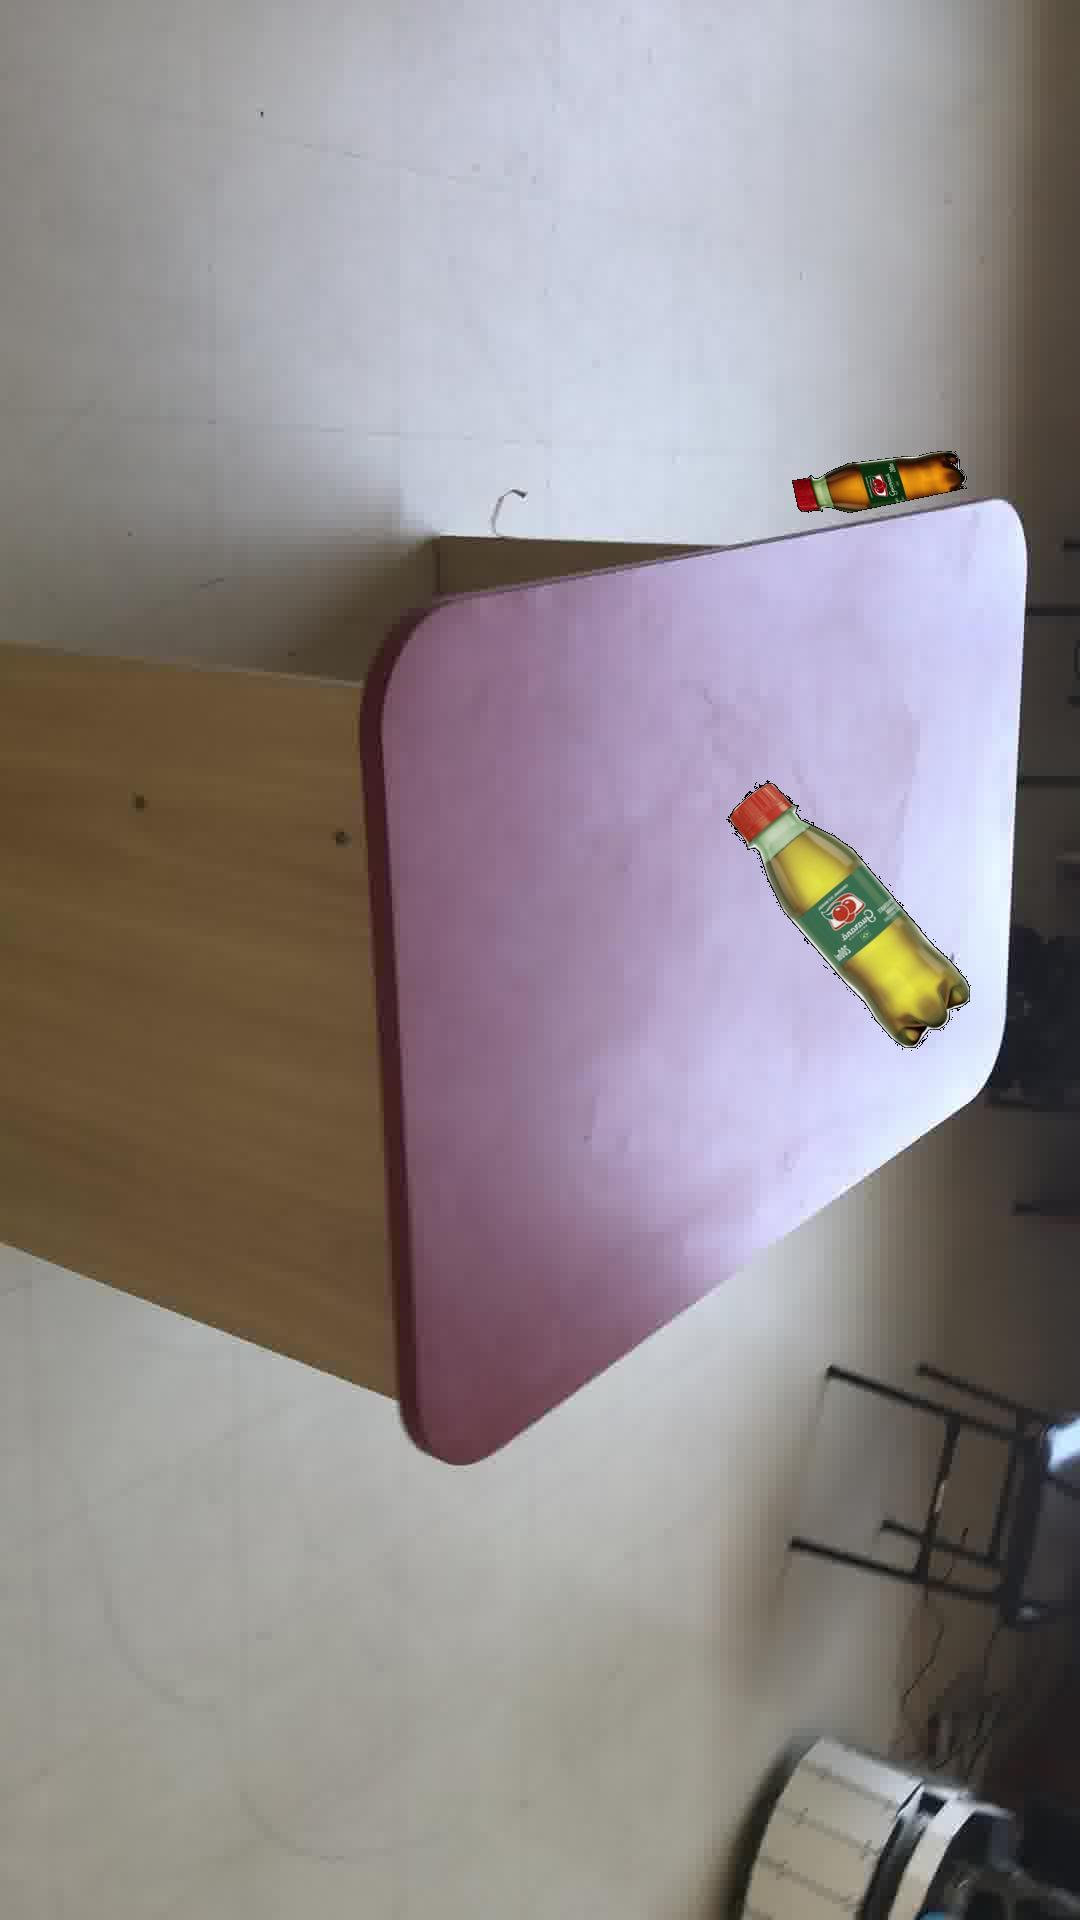guarana: (724, 778, 968, 1047), (790, 450, 965, 512)
